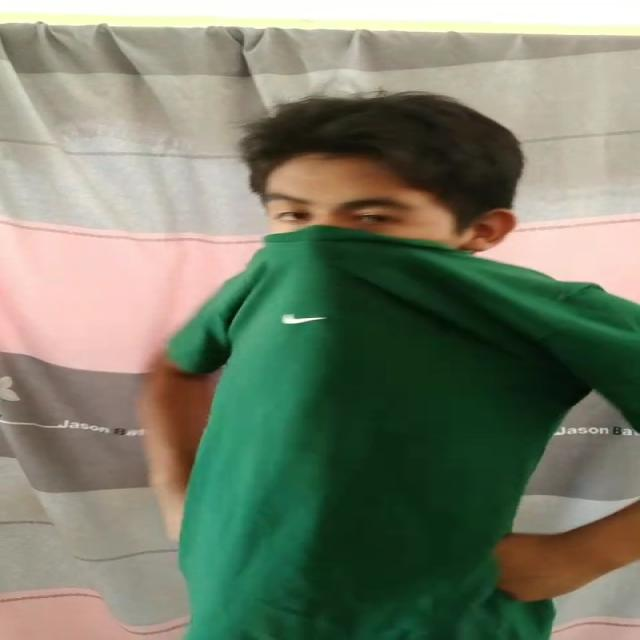8_ropa_rostro: (251, 220, 567, 352)
